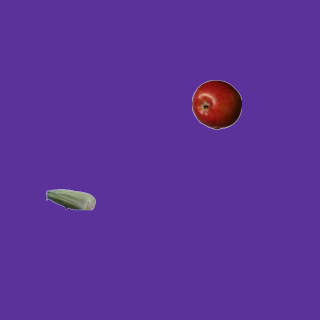Apple Braeburn: (191, 79, 241, 129)
Corn Husk: (45, 174, 95, 224)
